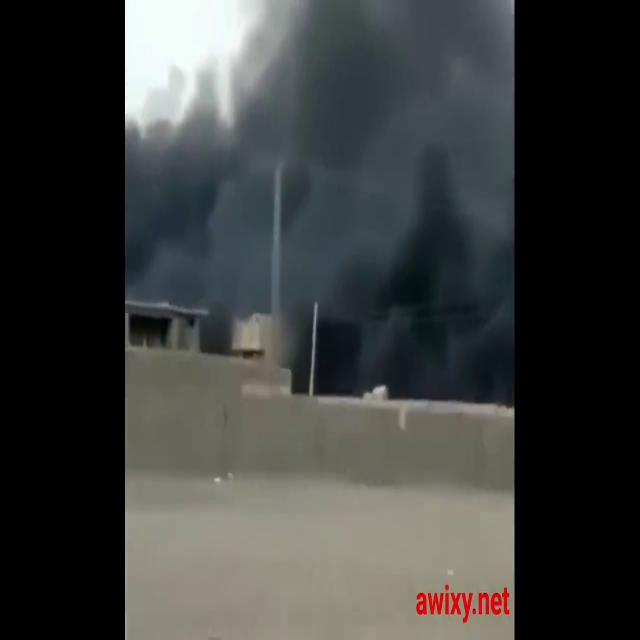Smoke: (127, 0, 514, 407)
